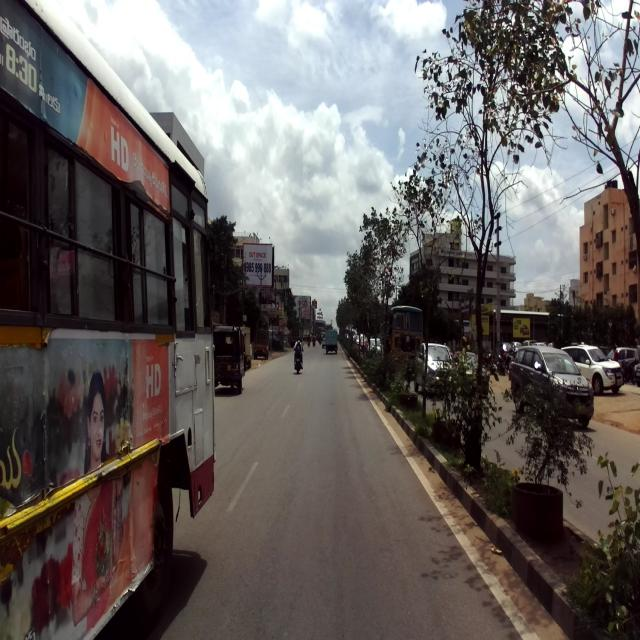bus: (0, 0, 219, 639)
car: (511, 344, 594, 428), (560, 343, 624, 397)
